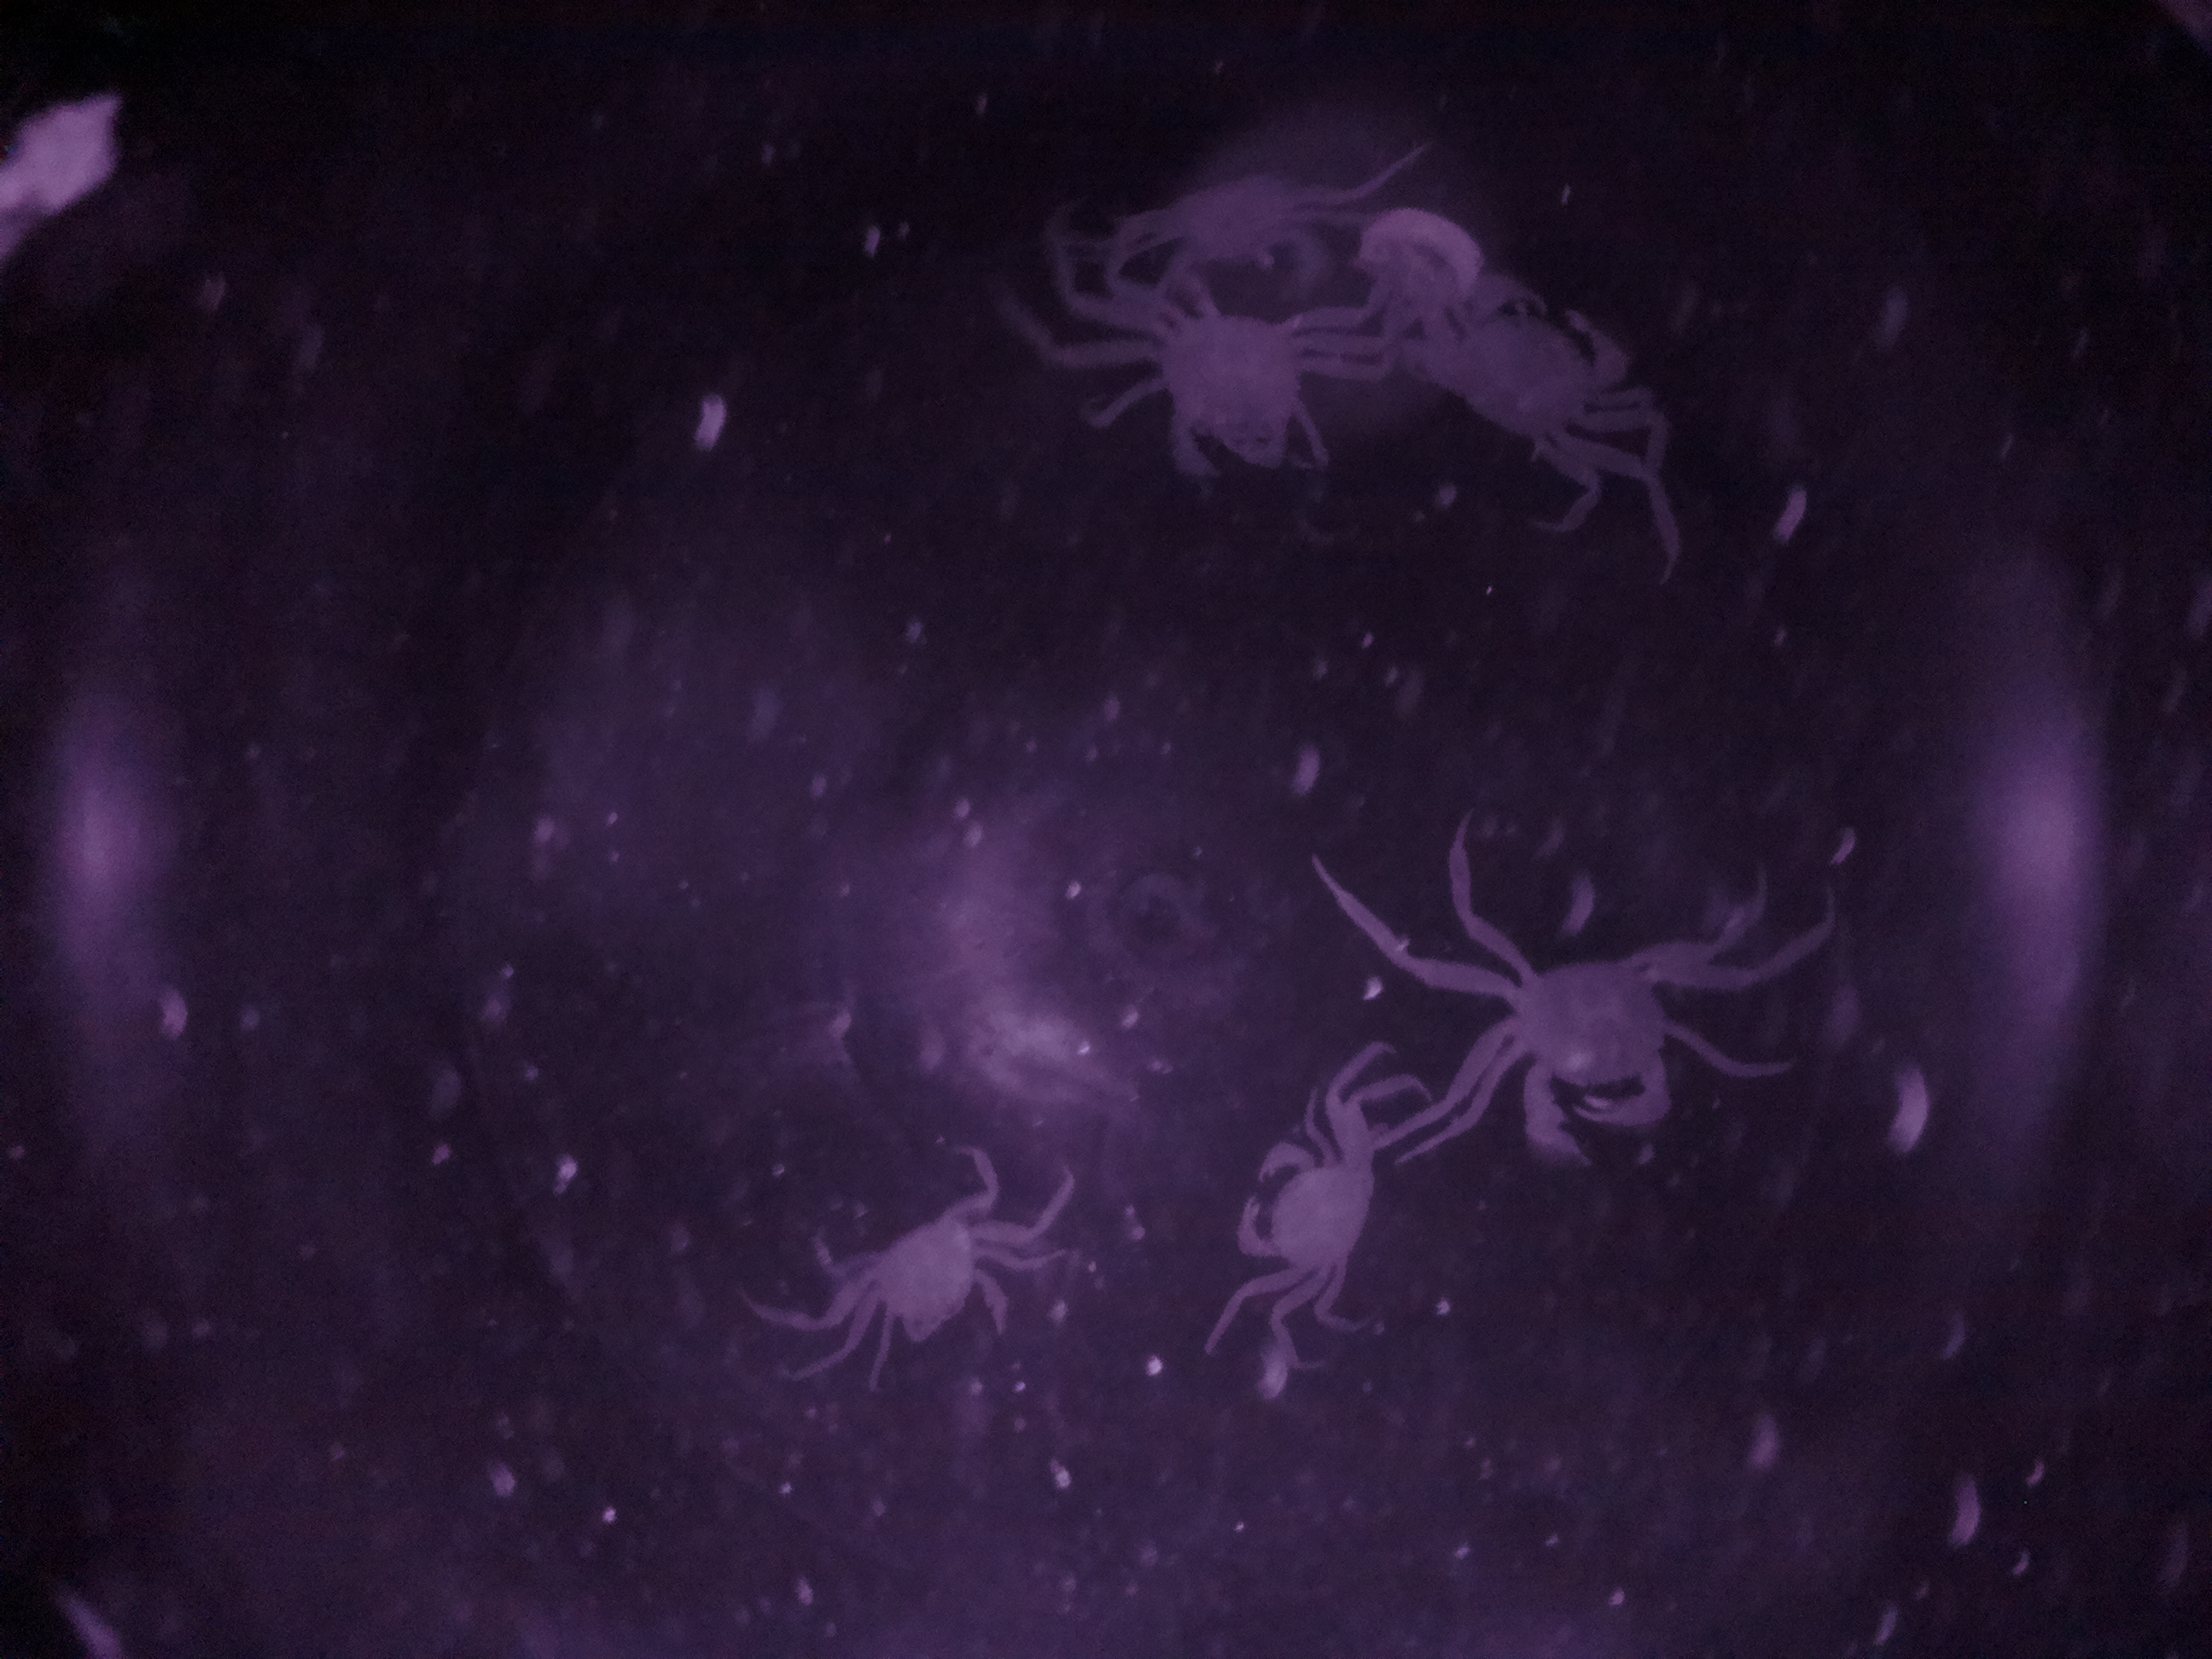Crab: (1404, 917, 1764, 1187), (1190, 1084, 1420, 1331), (824, 1187, 1042, 1403)
